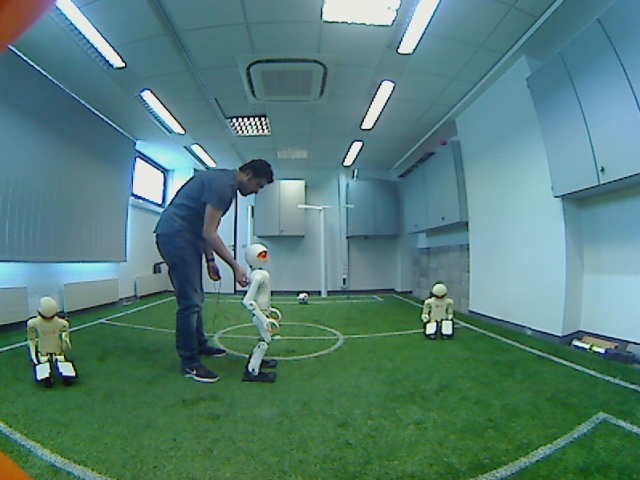ball: (293, 289, 315, 309)
robot: (234, 241, 287, 386), (19, 291, 88, 387), (413, 281, 461, 347)
